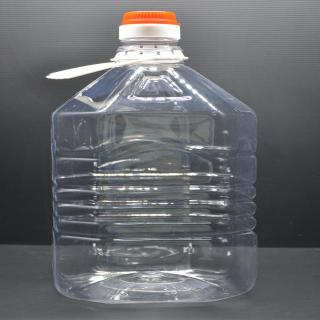Plastic-bottle: (44, 9, 266, 308)
